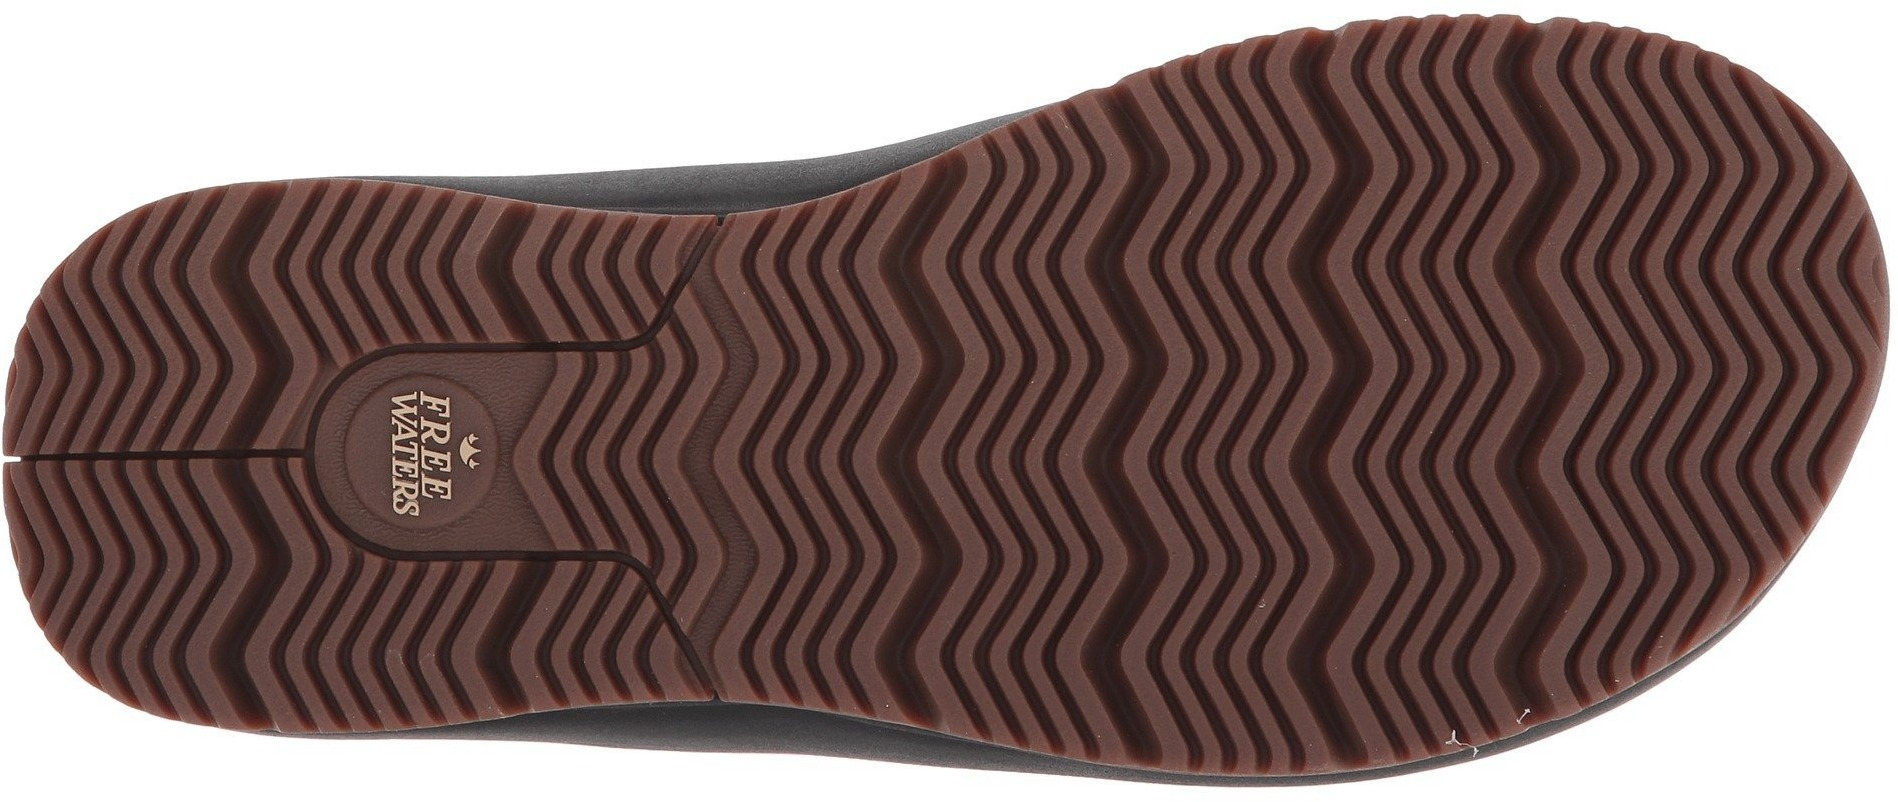chevron: (712, 240, 1277, 692), (1292, 50, 1689, 653), (54, 267, 324, 640), (514, 357, 711, 560), (1695, 219, 1870, 390), (1125, 76, 1287, 233), (337, 562, 489, 726), (327, 187, 479, 345), (1693, 403, 1828, 537)
circle: (333, 375, 508, 543)
text: (333, 375, 508, 543), (384, 383, 485, 533)
